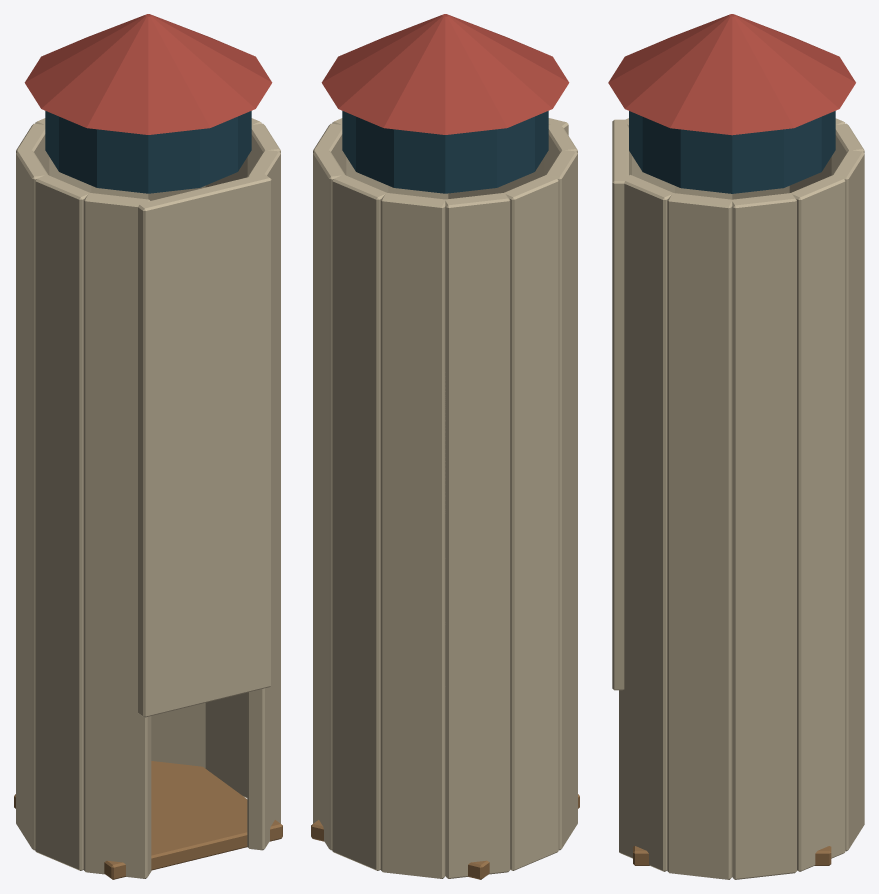
File: harbor-lighthouse.lod0.glb
The picture shows the model from 3 angles, left to right: view 1: azimuth 30°, elevation 25°; view 2: azimuth 150°, elevation 25°; view 3: azimuth 270°, elevation 25°; orthographic projection.
Visible parts, largest first — view 1: harbor-lighthouse__body, harbor-lighthouse__front-wall, harbor-lighthouse__roof; view 2: harbor-lighthouse__body, harbor-lighthouse__roof, harbor-lighthouse__front-wall; view 3: harbor-lighthouse__body, harbor-lighthouse__roof, harbor-lighthouse__front-wall.
Boxes of the visible parts, left/top/right/bottom form: harbor-lighthouse__body: left=14, top=111, right=282, bottom=879; harbor-lighthouse__front-wall: left=138, top=173, right=271, bottom=717; harbor-lighthouse__roof: left=24, top=14, right=272, bottom=134; harbor-lighthouse__body: left=311, top=111, right=579, bottom=879; harbor-lighthouse__roof: left=321, top=14, right=569, bottom=134; harbor-lighthouse__front-wall: left=448, top=118, right=568, bottom=198; harbor-lighthouse__body: left=619, top=111, right=864, bottom=879; harbor-lighthouse__roof: left=608, top=14, right=855, bottom=135; harbor-lighthouse__front-wall: left=612, top=119, right=628, bottom=690.
Bounding box in the file's own units: 3.21 × 10.8 × 3.1.
